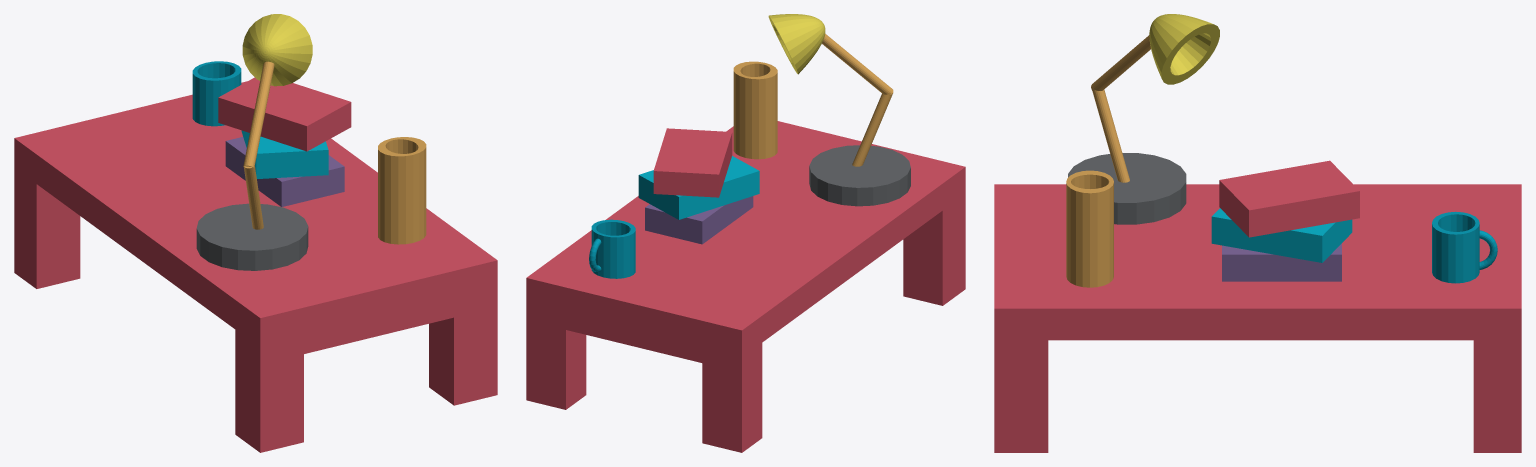
Rendered from table.glb.
3 views of the same model, side by side, from view 1: azimuth 30°, elevation 25°; view 2: azimuth 150°, elevation 25°; view 3: azimuth 270°, elevation 25° (orthographic). The views are drawn at different scales.
Parts seen in each view (by area): view 1: Mesh_Mesh_head_geo.001_lambert2SG.001; view 2: Mesh_Mesh_head_geo.001_lambert2SG.001; view 3: Mesh_Mesh_head_geo.001_lambert2SG.001.
Boxes of the visible parts, x1,y1,x2,y2 form: Mesh_Mesh_head_geo.001_lambert2SG.001: [14, 14, 497, 452]; Mesh_Mesh_head_geo.001_lambert2SG.001: [526, 14, 965, 452]; Mesh_Mesh_head_geo.001_lambert2SG.001: [994, 14, 1521, 452].
Size of the model in its own units: 49 by 67.07 by 88.
